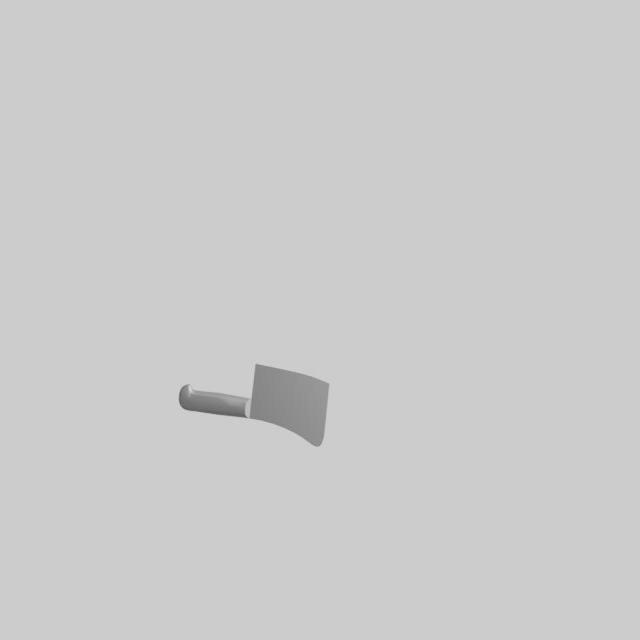knife: (180, 384, 252, 418)
